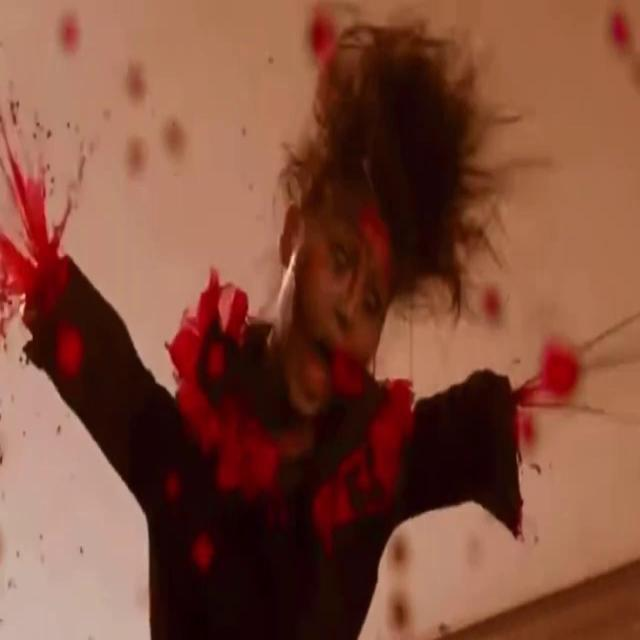flood: (158, 284, 446, 524), (0, 103, 108, 390)
